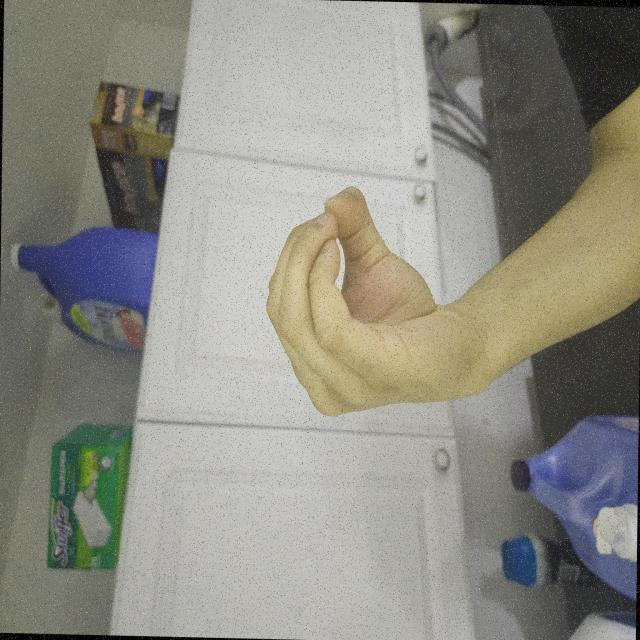O: (158, 347, 345, 640)
